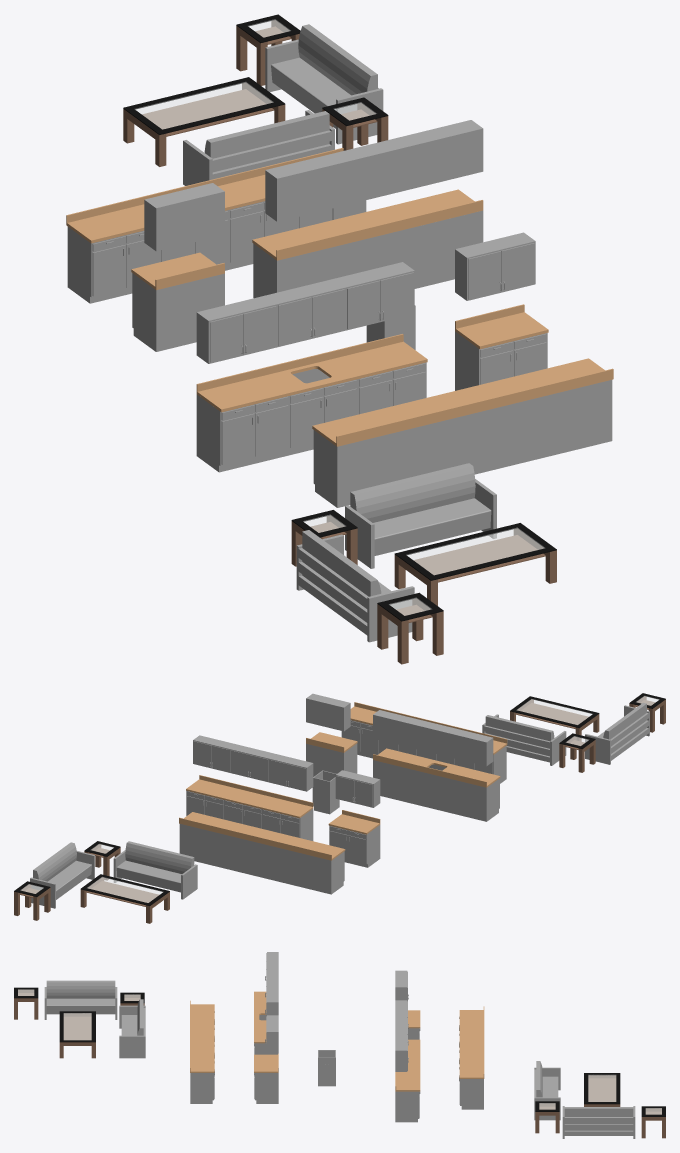
The model's file is Duplex_Level_1_IfcFurnishingElement.dae.
3 views of the same model, one above another, from view 1: azimuth 30°, elevation 25°; view 2: azimuth 150°, elevation 25°; view 3: azimuth 270°, elevation 25° (orthographic). The views are drawn at different scales.
Visible parts, largest first — view 1: 2OBrcmyk58NupXoVOHUtO$, 2OBrcmyk58NupXoVOHUvqx, 2OBrcmyk58NupXoVOHUvq$, 2OBrcmyk58NupXoVOHUshs, 2OBrcmyk58NupXoVOHUsc7, 2OBrcmyk58NupXoVOHUtOu, 2OBrcmyk58NupXoVOHUtVQ, 2OBrcmyk58NupXoVOHUtOy, 2OBrcmyk58NupXoVOHUv88, 2OBrcmyk58NupXoVOHUvqo, 2OBrcmyk58NupXoVOHUvr4, 2OBrcmyk58NupXoVOHUvH8 (+28 smaller); view 2: 2OBrcmyk58NupXoVOHUsc7, 2OBrcmyk58NupXoVOHUvuo, 2OBrcmyk58NupXoVOHUtO$, 2OBrcmyk58NupXoVOHUshs, 2OBrcmyk58NupXoVOHUv88, 2OBrcmyk58NupXoVOHUtOy, 2OBrcmyk58NupXoVOHUtVQ, 2OBrcmyk58NupXoVOHUtOu, 2OBrcmyk58NupXoVOHUvqo, 2OBrcmyk58NupXoVOHUvup, 2OBrcmyk58NupXoVOHUvq$, 2OBrcmyk58NupXoVOHUvH8 (+27 smaller); view 3: 2OBrcmyk58NupXoVOHUtOy, 2OBrcmyk58NupXoVOHUshs, 2OBrcmyk58NupXoVOHUvuo, 2OBrcmyk58NupXoVOHUvqx, 2OBrcmyk58NupXoVOHUtO$, 2OBrcmyk58NupXoVOHUtOu, 2OBrcmyk58NupXoVOHUtVQ, 2OBrcmyk58NupXoVOHUsc7, 2OBrcmyk58NupXoVOHUv88, 0wkEuT1wr1kOyafLY4vyOn, 2OBrcmyk58NupXoVOHUvqu, 2OBrcmyk58NupXoVOHUvtA (+12 smaller).
Boxes of the visible parts, x1,y1,x2,y2 form: 2OBrcmyk58NupXoVOHUtO$: [345, 463, 496, 568]; 2OBrcmyk58NupXoVOHUvqx: [312, 358, 613, 446]; 2OBrcmyk58NupXoVOHUvq$: [196, 334, 427, 412]; 2OBrcmyk58NupXoVOHUshs: [265, 24, 383, 144]; 2OBrcmyk58NupXoVOHUsc7: [183, 110, 334, 185]; 2OBrcmyk58NupXoVOHUtOu: [394, 523, 556, 605]; 2OBrcmyk58NupXoVOHUtVQ: [123, 77, 285, 166]; 2OBrcmyk58NupXoVOHUtOy: [296, 530, 414, 642]; 2OBrcmyk58NupXoVOHUv88: [252, 189, 483, 260]; 2OBrcmyk58NupXoVOHUvqo: [196, 394, 289, 472]; 2OBrcmyk58NupXoVOHUvr4: [313, 430, 405, 507]; 2OBrcmyk58NupXoVOHUvH8: [132, 273, 224, 351]; 2OBrcmyk58NupXoVOHUsc7: [113, 841, 197, 899]; 2OBrcmyk58NupXoVOHUvuo: [179, 812, 345, 860]; 2OBrcmyk58NupXoVOHUtO$: [482, 714, 566, 765]; 2OBrcmyk58NupXoVOHUshs: [30, 842, 94, 908]; 2OBrcmyk58NupXoVOHUv88: [186, 775, 313, 818]; 2OBrcmyk58NupXoVOHUtOy: [585, 702, 649, 764]; 2OBrcmyk58NupXoVOHUtVQ: [80, 874, 169, 923]; 2OBrcmyk58NupXoVOHUtOu: [510, 696, 599, 741]; 2OBrcmyk58NupXoVOHUvqo: [448, 778, 499, 821]; 2OBrcmyk58NupXoVOHUvup: [293, 851, 344, 894]; 2OBrcmyk58NupXoVOHUvq$: [373, 748, 500, 787]; 2OBrcmyk58NupXoVOHUvH8: [329, 825, 380, 867]; 2OBrcmyk58NupXoVOHUtOy: [44, 980, 117, 1019]; 2OBrcmyk58NupXoVOHUshs: [562, 1106, 635, 1138]; 2OBrcmyk58NupXoVOHUvuo: [459, 1006, 484, 1078]; 2OBrcmyk58NupXoVOHUvqx: [190, 1000, 214, 1072]; 2OBrcmyk58NupXoVOHUtO$: [119, 999, 145, 1058]; 2OBrcmyk58NupXoVOHUtOu: [59, 1011, 95, 1058]; 2OBrcmyk58NupXoVOHUtVQ: [584, 1073, 620, 1106]; 2OBrcmyk58NupXoVOHUsc7: [534, 1061, 560, 1120]; 2OBrcmyk58NupXoVOHUv88: [395, 1039, 420, 1091]; 0wkEuT1wr1kOyafLY4vyOn: [395, 1091, 420, 1122]; 2OBrcmyk58NupXoVOHUvqu: [190, 1061, 214, 1103]; 2OBrcmyk58NupXoVOHUvtA: [459, 1067, 483, 1109].
Size of the model in its own units: 7.74 by 16.43 by 2.
